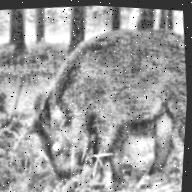boar: (21, 2, 192, 192)
